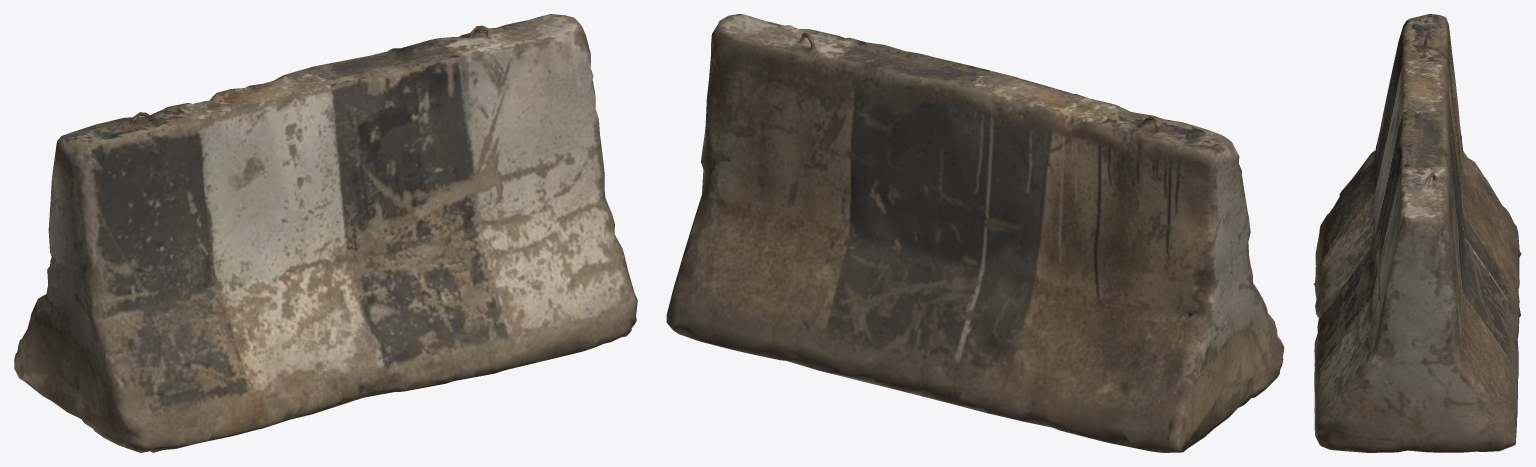
Rendered from concrete_barrier.glb.
3 renders of one model, left to right at view 1: azimuth 30°, elevation 25°; view 2: azimuth 150°, elevation 25°; view 3: azimuth 270°, elevation 25°, orthographic. The views are drawn at different scales.
Parts seen in each view (by area): view 1: concrete_road_barrier; view 2: concrete_road_barrier; view 3: concrete_road_barrier.
Part boxes in pixels (x1,y1,x2,y2): concrete_road_barrier: (14, 14, 637, 452); concrete_road_barrier: (666, 14, 1284, 452); concrete_road_barrier: (1313, 14, 1521, 452).
Bounding box in the file's own units: 1.54 × 0.8304 × 0.6387.
Materials: 1 (1 with a texture image).
